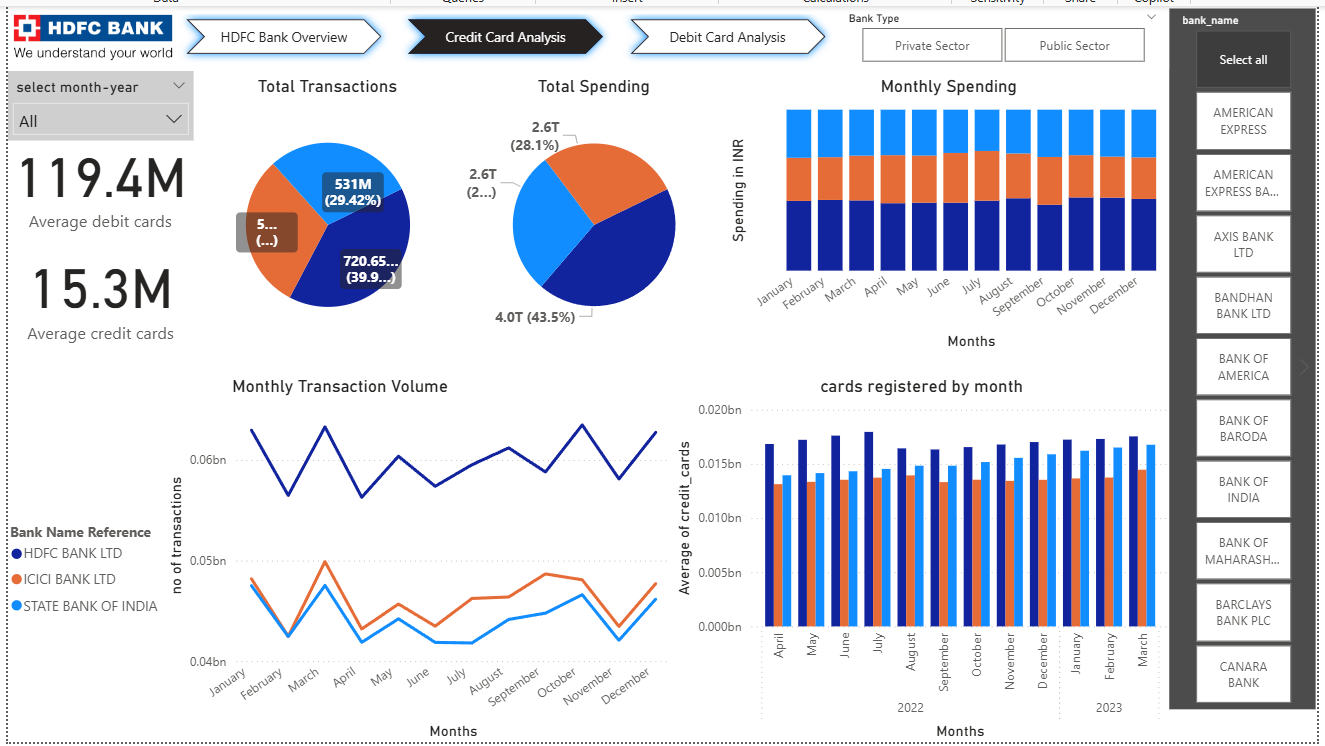

The page's visual inventory and layout, read from the dashboard file:
{"tool":"powerbi","page":{"name":"Credit Card Analysis","canvas":[1280,720],"ordinal":1},"visuals":[{"type":"card","fields":{"Values":["Avg(RBI_22-23.credit_cards)"]},"box":[0,225,181.7,111.7],"z":0},{"type":"card","fields":{"Values":["Avg(RBI_22-23.debit_cards)"]},"box":[0,116.8,181,108.6],"z":1000},{"type":"lineChart","title":"Monthly Transaction Volume","fields":{"Category":["RBI_22-23.month_year.Variation.Date Hierarchy.Year","RBI_22-23.month_year.Variation.Date Hierarchy.Month"],"Y":["RBI_22-23.credit transactions"],"Series":["RBI_22-23.bank_name"]},"box":[0,360,650,360],"z":2000},{"type":"hundredPercentStackedColumnChart","title":"Monthly Spending","fields":{"Category":["RBI_22-23.month_year.Variation.Date Hierarchy.Month"],"Y":["RBI_22-23.credit spending"],"Series":["RBI_22-23.bank_name"]},"box":[702.5,65.8,434.3,271.5],"z":3000},{"type":"pieChart","title":"Total Transactions","fields":{"Y":["RBI_22-23.credit card transactions"],"Category":["RBI_22-23.bank_name"]},"box":[181,65.8,263.2,271.5],"z":4000},{"type":"pieChart","title":"Total Spending","fields":{"Y":["RBI_22-23.credit spending"],"Category":["RBI_22-23.bank_name"]},"box":[444.2,65.8,258.3,271.5],"z":5000},{"type":"clusteredColumnChart","title":"cards registered by month","fields":{"Y":["Avg(RBI_22-23.credit_cards)"],"Series":["RBI_22-23.bank_name"],"Category":["RBI_22-23.month_year.Variation.Date Hierarchy.Year","RBI_22-23.month_year.Variation.Date Hierarchy.Month"]},"box":[650,360,486.7,360],"z":6000},{"type":"slicer","fields":{"Values":["RBI_22-23.month_year"]},"box":[0,63.4,181.4,67.7],"z":7000},{"type":"image","box":[0,1.7,166.7,58.3],"z":8000},{"type":"slicer","fields":{"Values":["RBI_22-23.bank_name"]},"box":[1136.4,2,143.4,685.9],"z":9000},{"type":"slicer","fields":{"Values":["RBI_22-23.Bank Type"]},"box":[810,0,326.7,61.7],"z":10000},{"type":"pageNavigator","box":[166.7,5,643.3,50],"z":11000}]}

Visuals, with their boxes on the page's 1280x720 design canvas (x1, y1, x2, y2). These are canvas units, not pixel positions in the 1325x746 screenshot, which may show the page scaled, cropped or inside an application window:
card - Avg(RBI_22-23.credit_cards): rect(0, 225, 182, 337)
card - Avg(RBI_22-23.debit_cards): rect(0, 117, 181, 225)
"Monthly Transaction Volume" lineChart: rect(0, 360, 650, 720)
"Monthly Spending" hundredPercentStackedColumnChart: rect(702, 66, 1137, 337)
"Total Transactions" pieChart: rect(181, 66, 444, 337)
"Total Spending" pieChart: rect(444, 66, 702, 337)
"cards registered by month" clusteredColumnChart: rect(650, 360, 1137, 720)
slicer - RBI_22-23.month_year: rect(0, 63, 181, 131)
image: rect(0, 2, 167, 60)
slicer - RBI_22-23.bank_name: rect(1136, 2, 1280, 688)
slicer - RBI_22-23.Bank Type: rect(810, 0, 1137, 62)
pageNavigator: rect(167, 5, 810, 55)
